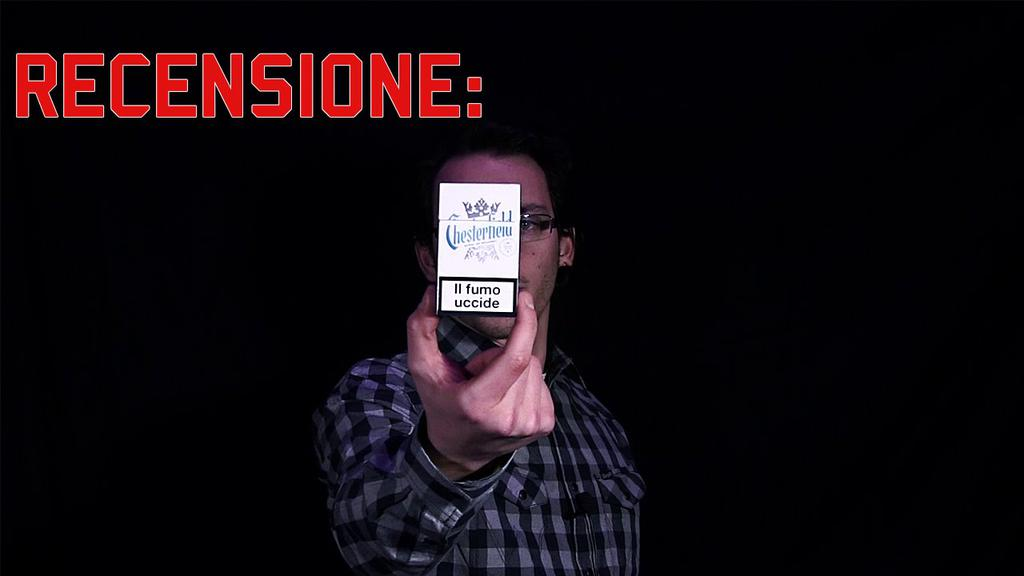chesterfield_blue: (438, 184, 519, 318)
